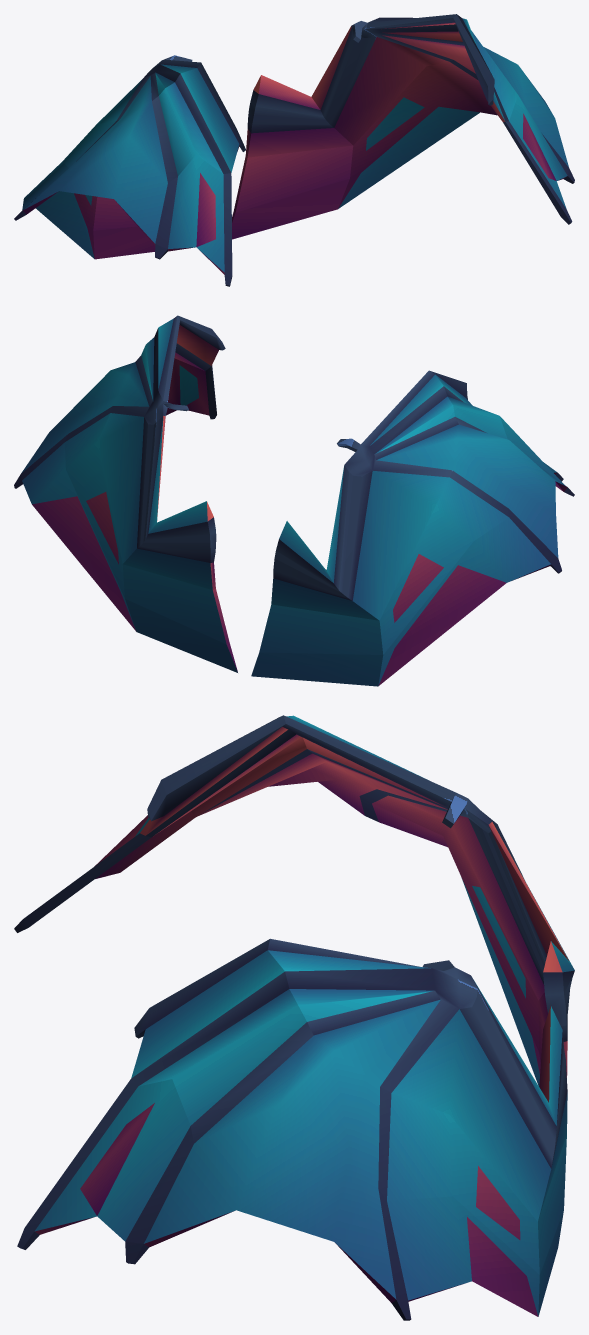
Rendered from Wings1.fbx.
3 renders of one model, top to bottom at view 1: azimuth 30°, elevation 25°; view 2: azimuth 150°, elevation 25°; view 3: azimuth 270°, elevation 25°, orthographic. The views are drawn at different scales.
Visible parts, largest first — view 1: pCube17; view 2: pCube17; view 3: pCube17.
Boxes of the visible parts, left/top/right/bottom form: pCube17: left=14, top=14, right=574, bottom=286; pCube17: left=14, top=315, right=574, bottom=686; pCube17: left=14, top=715, right=574, bottom=1320.
Bounding box in the file's own units: 27.62 × 13.13 × 15.
